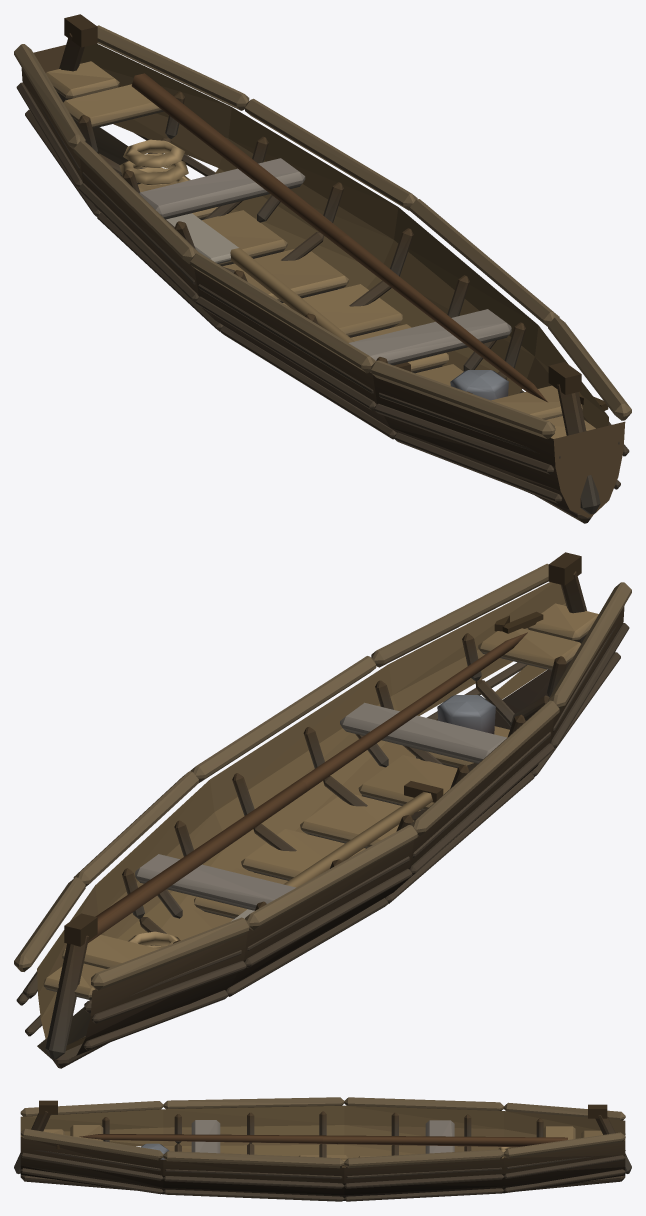
Rendered from pirogue.glb.
The picture shows the model from 3 angles, top to bottom: view 1: azimuth 30°, elevation 25°; view 2: azimuth 150°, elevation 25°; view 3: azimuth 270°, elevation 25°; orthographic projection. The views are drawn at different scales.
Visible parts, largest first — view 1: pirogue; view 2: pirogue; view 3: pirogue.
Boxes of the visible parts, x1=… form: pirogue: x1=14, y1=14, x2=631, y2=523; pirogue: x1=14, y1=552, x2=631, y2=1068; pirogue: x1=14, y1=1097, x2=631, y2=1201.
Size of the model in its own units: 0.7252 by 0.4834 by 2.9.
